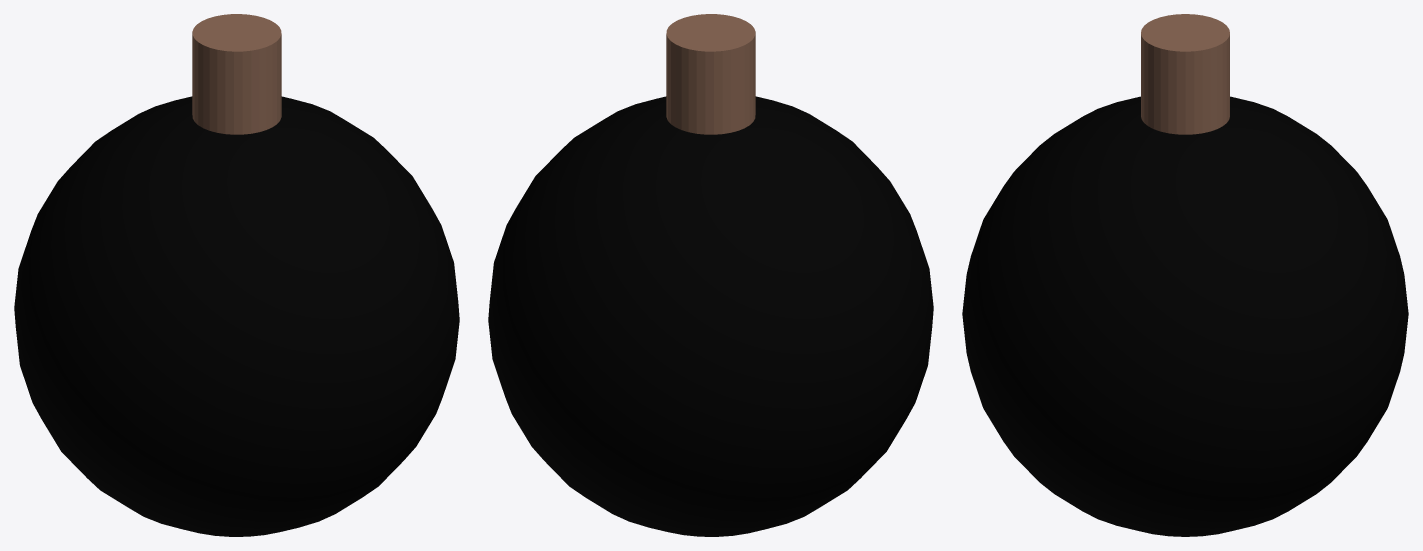
Rendered from bomb.glb.
The picture shows the model from 3 angles, left to right: view 1: azimuth 30°, elevation 25°; view 2: azimuth 150°, elevation 25°; view 3: azimuth 270°, elevation 25°; orthographic projection.
Parts seen in each view (by area): view 1: Sphere, Cylinder; view 2: Sphere, Cylinder; view 3: Sphere, Cylinder.
Part boxes in pixels (<box>): Sphere: <box>14,96,459,536</box>; Cylinder: <box>192,14,281,134</box>; Sphere: <box>488,96,933,536</box>; Cylinder: <box>666,14,755,134</box>; Sphere: <box>962,96,1408,536</box>; Cylinder: <box>1141,14,1229,134</box>.
Bounding box in the file's own units: 2 × 2.39 × 2.
